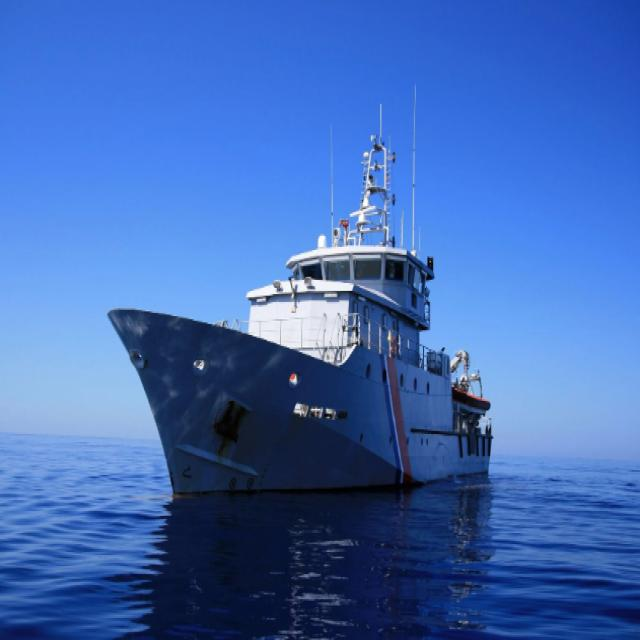passenger ship: (94, 136, 526, 501)
